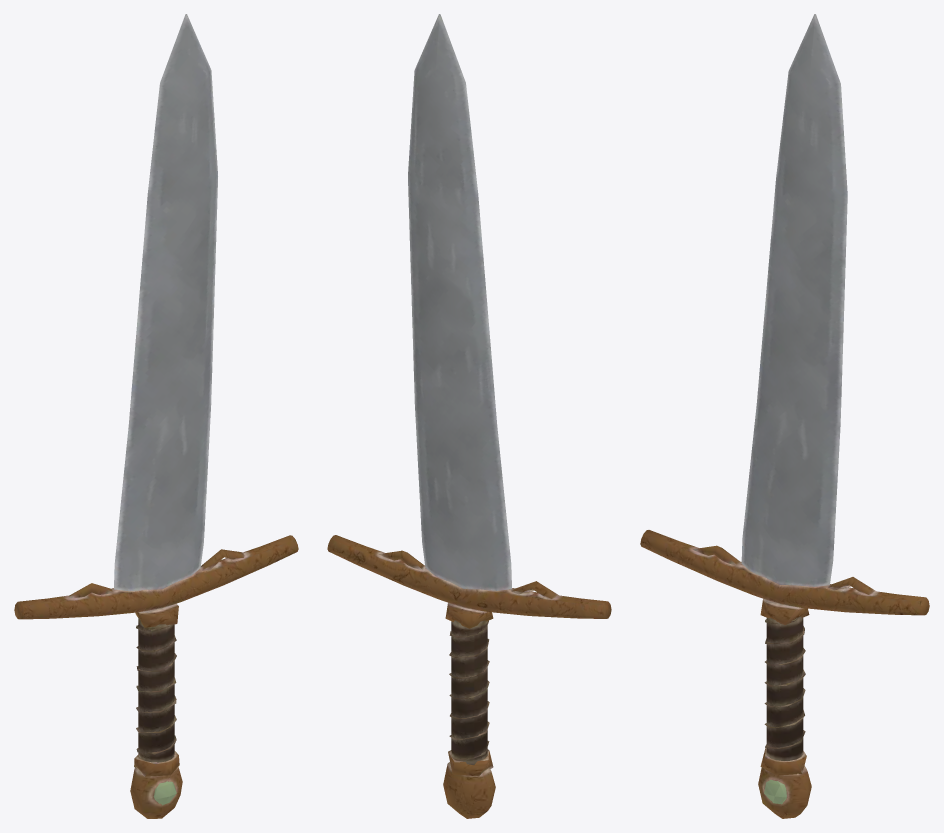
File: eq_sword_4_lod1.glb
3 renders of one model, left to right at view 1: azimuth 30°, elevation 25°; view 2: azimuth 150°, elevation 25°; view 3: azimuth 330°, elevation 25°, orthographic.
Visible parts, largest first — view 1: eq_sword_4_lod1; view 2: eq_sword_4_lod1; view 3: eq_sword_4_lod1.
Part boxes in pixels (box(x1,y1,x2,y2)): eq_sword_4_lod1: box(14, 14, 298, 818); eq_sword_4_lod1: box(327, 14, 611, 818); eq_sword_4_lod1: box(640, 14, 929, 818).
Size of the model in its own units: 0.4202 by 1.15 by 0.0624.
Materials: 1 (1 with a texture image).
